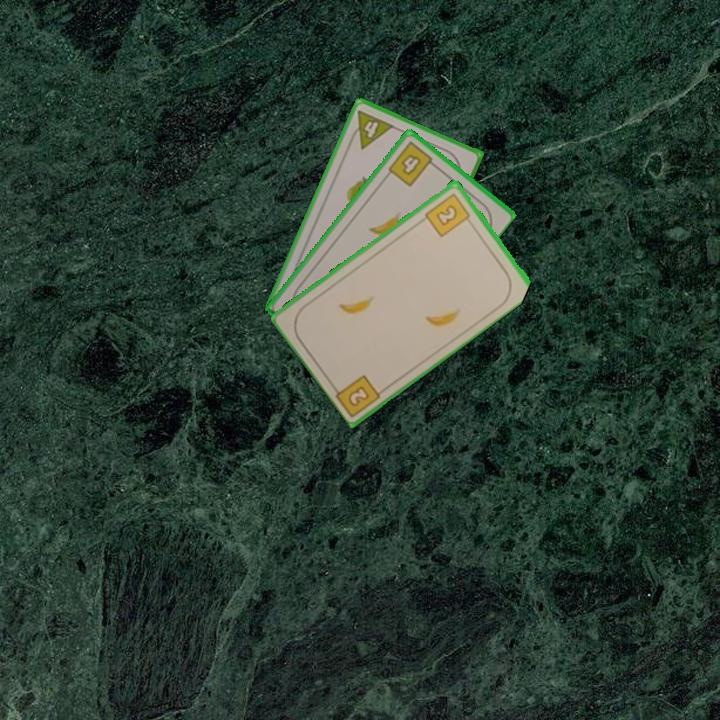2b: (422, 189, 475, 240), (344, 382, 372, 409)
4b: (384, 138, 439, 190)
4p: (345, 106, 397, 152)
